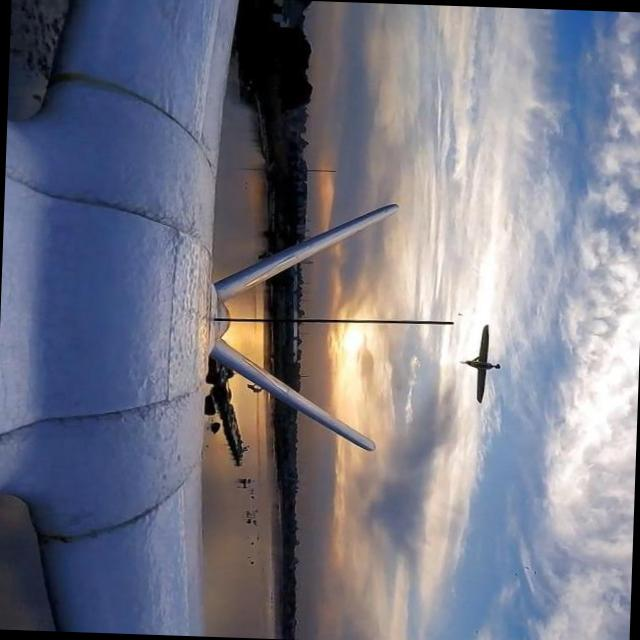UAV: (3, 8, 407, 590), (434, 304, 530, 432)
